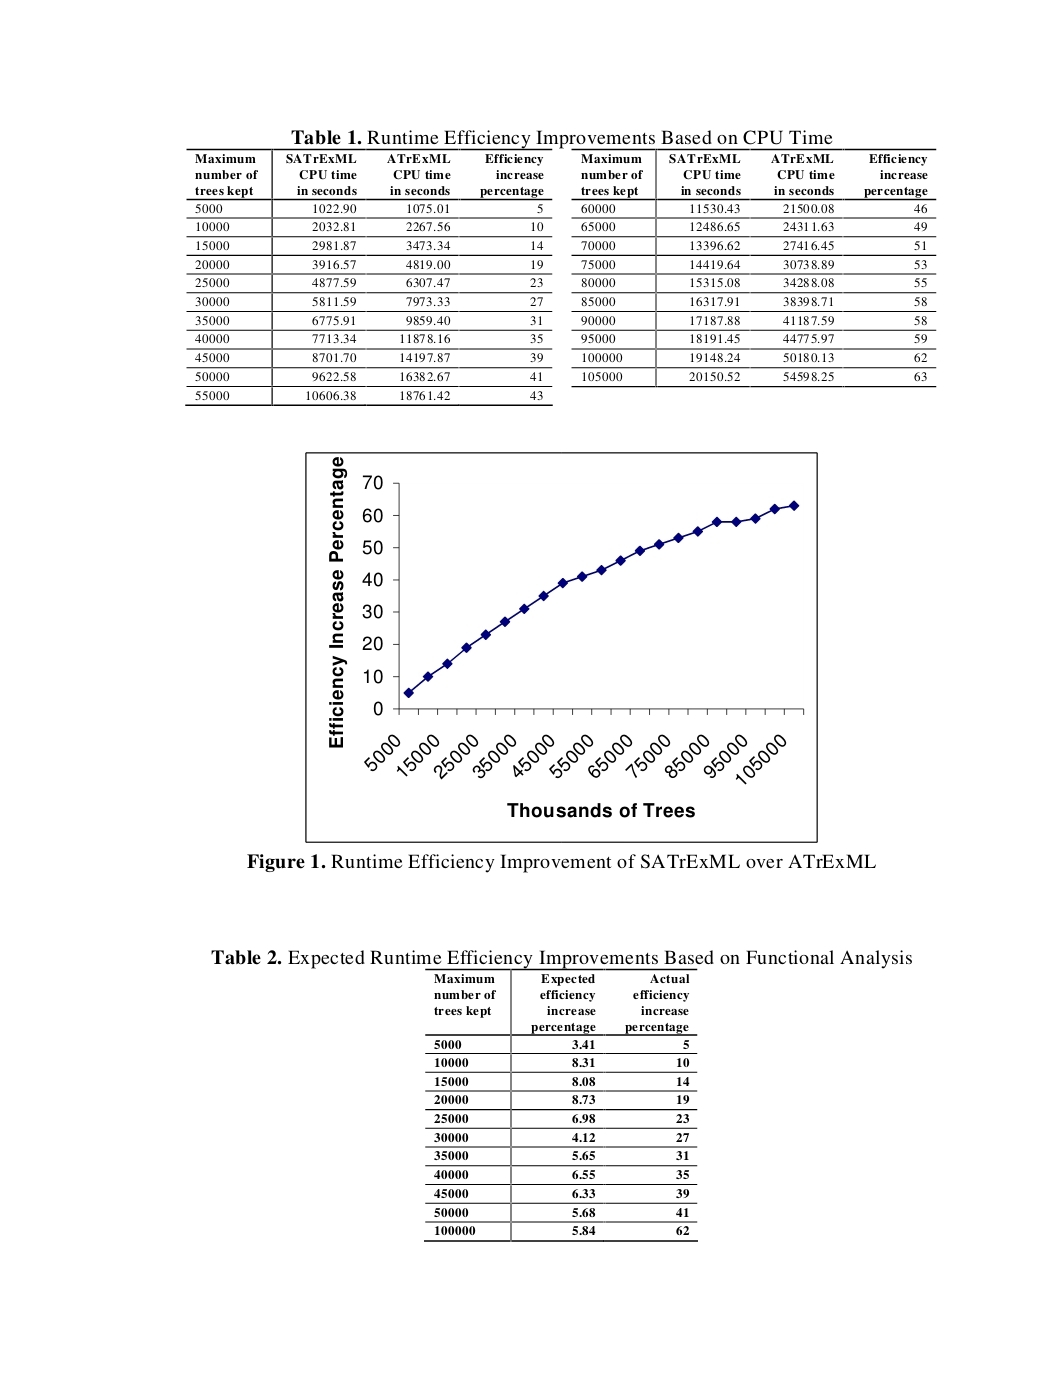Table: (185, 129, 936, 406), (211, 950, 911, 1241)
figure: (305, 451, 817, 843)
